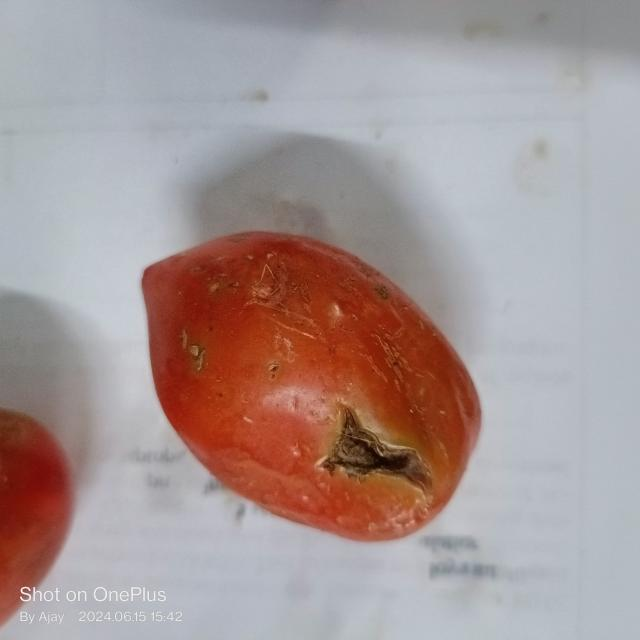Botrytis: (321, 405, 431, 487), (184, 341, 214, 369)
